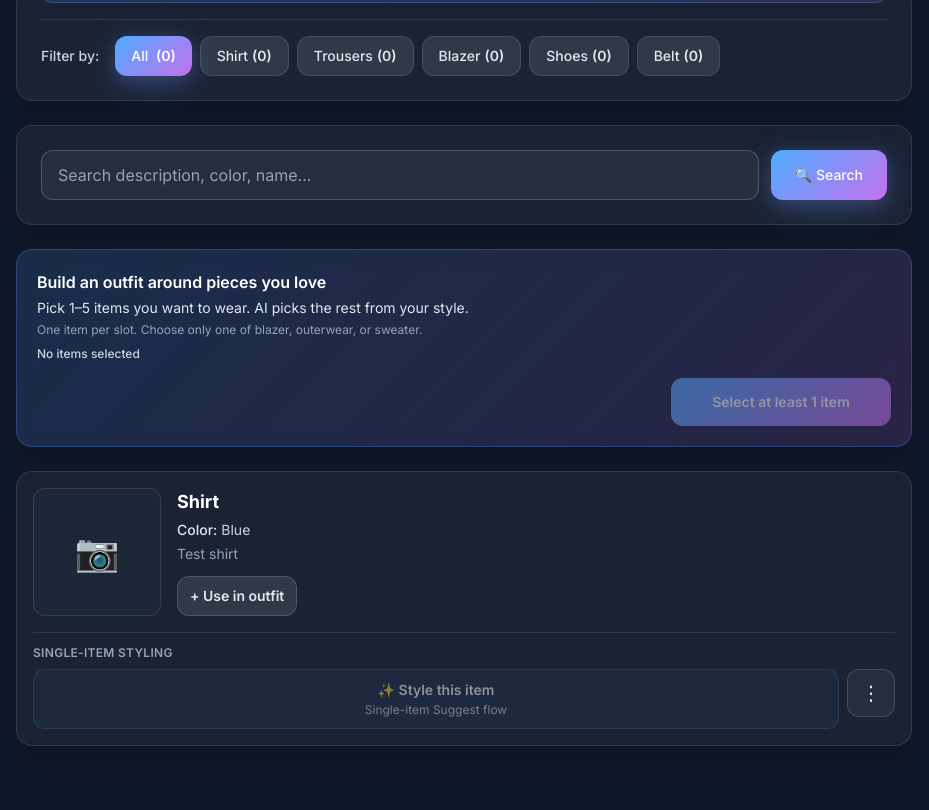
Test case: Wardrobe page › keeps Past Suggestions enabled when item has no image but Style this item is disabled
(page scrolled)
expect the button with aria-label "Style this item with AI" is disabled: met, box [33,669,839,729]
Click the button "⋮". click: point(871, 693)
box: [847,669,895,717]
(page scrolled)
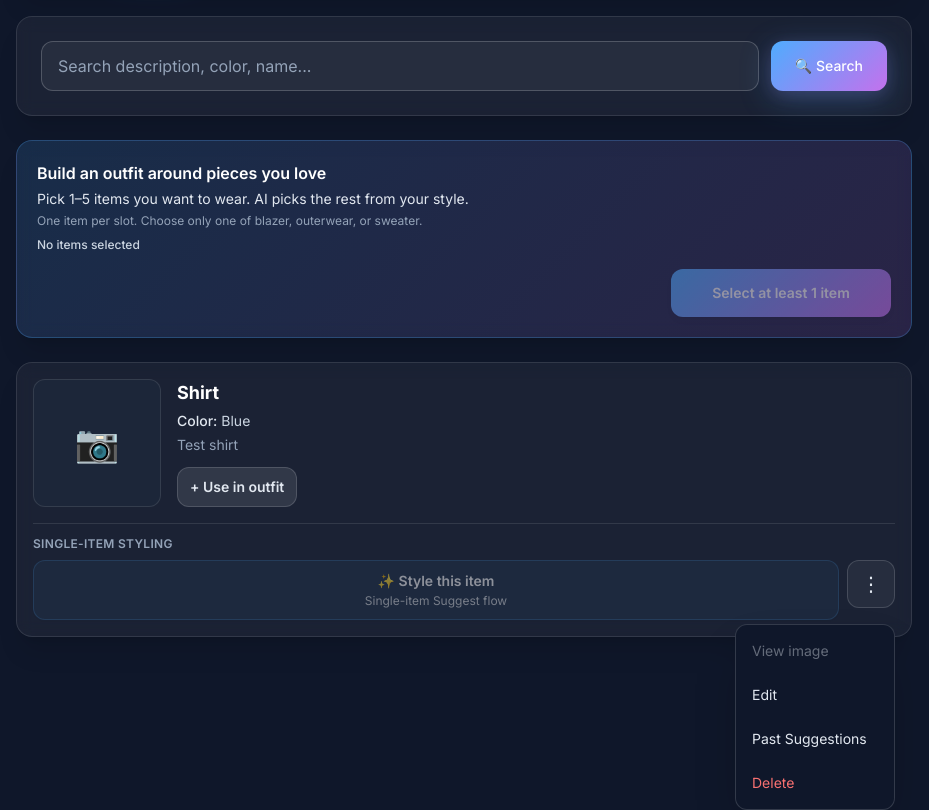
expect the menu item "Past Suggestions" is enabled: met, box [736,717,894,761]
